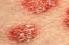plaque psoriasis: (21, 0, 66, 15), (6, 24, 38, 45), (63, 0, 69, 37)
